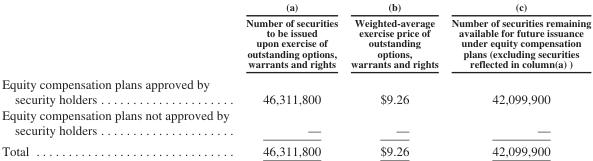table: (1, 0, 590, 157)
table column: (1, 0, 236, 157), (444, 0, 590, 157), (236, 0, 343, 157), (343, 0, 444, 157)
table column header: (1, 0, 590, 72)
table row: (1, 0, 590, 72), (1, 72, 590, 106), (1, 106, 590, 140), (1, 140, 590, 157)
